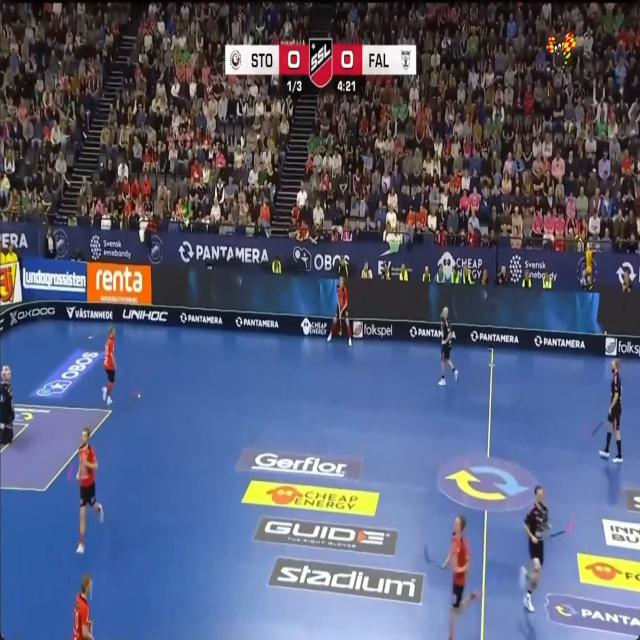Balls: (137, 394, 140, 399)
player: (442, 515, 477, 639), (519, 485, 549, 612), (77, 428, 103, 553), (599, 360, 622, 463), (327, 276, 351, 345), (439, 307, 458, 385), (73, 574, 92, 639), (0, 365, 14, 444), (103, 328, 115, 404)
stick: (548, 517, 573, 537), (423, 544, 435, 564), (592, 420, 604, 436), (549, 529, 567, 537), (89, 579, 94, 600), (339, 309, 342, 336), (440, 566, 444, 568)
